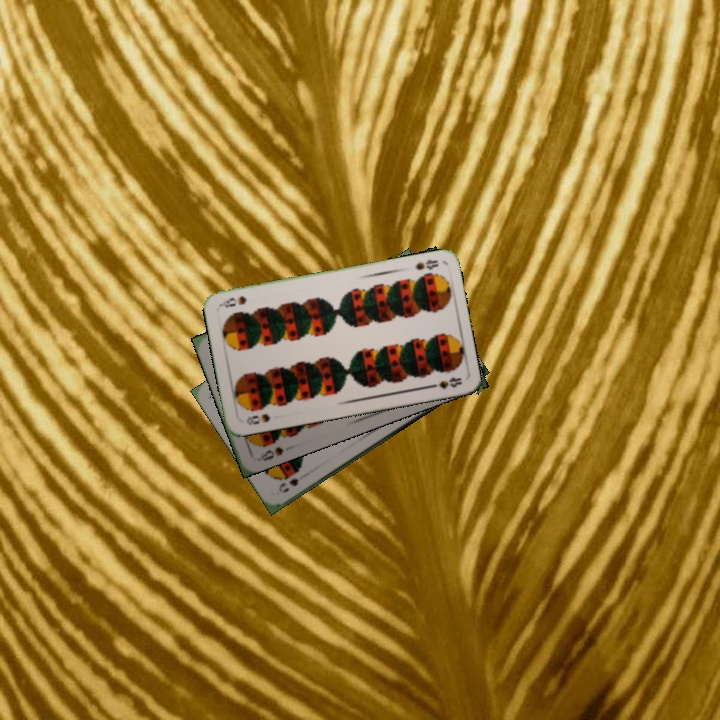S8: (253, 442, 286, 463), (242, 410, 273, 428), (410, 255, 441, 273)
SO: (274, 474, 301, 496)
